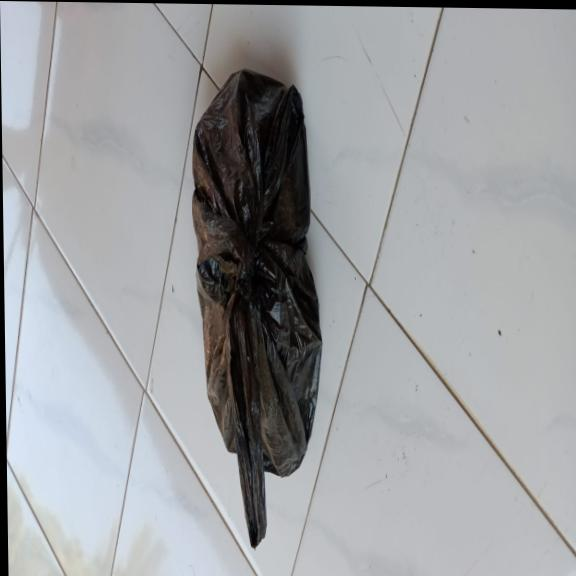Plastik: (190, 65, 325, 548)
